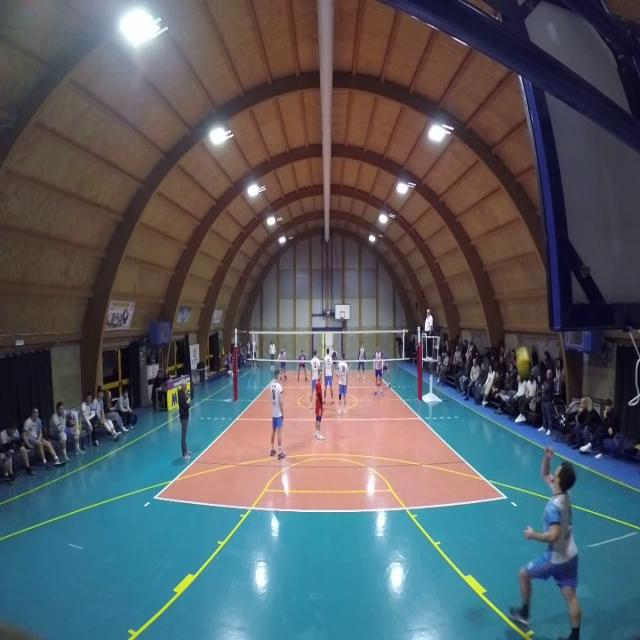Volleyball: (512, 345, 536, 384)
